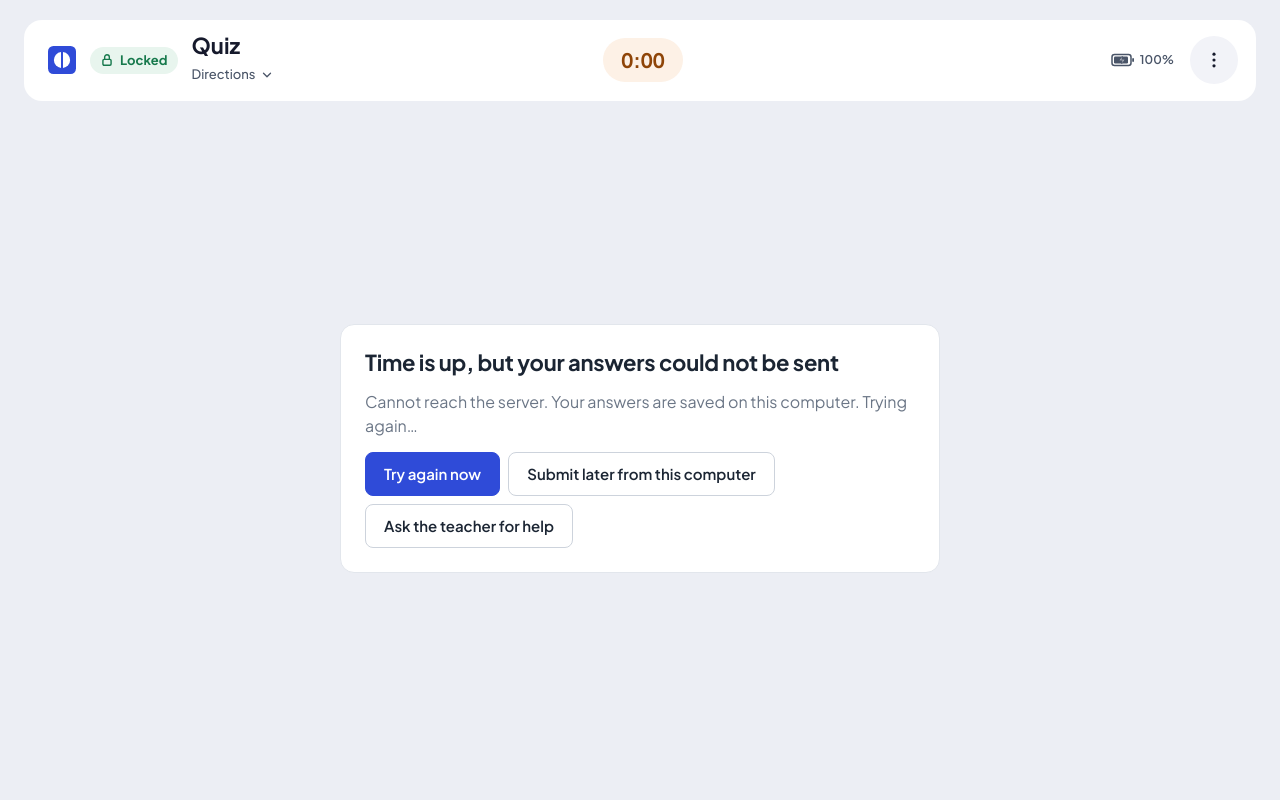
exam page S3 / S5 › time up while offline: three choices; submit later seals the exact answers
Expected: the element with test id "time-up-offline" is shown, x1=340 y1=324 x2=940 y2=573
Expected: the button "Try again now" is shown, x1=365 y1=452 x2=500 y2=496
Click the button "Submit later from this computer" at (642, 474), box x1=508 y1=452 x2=775 y2=496
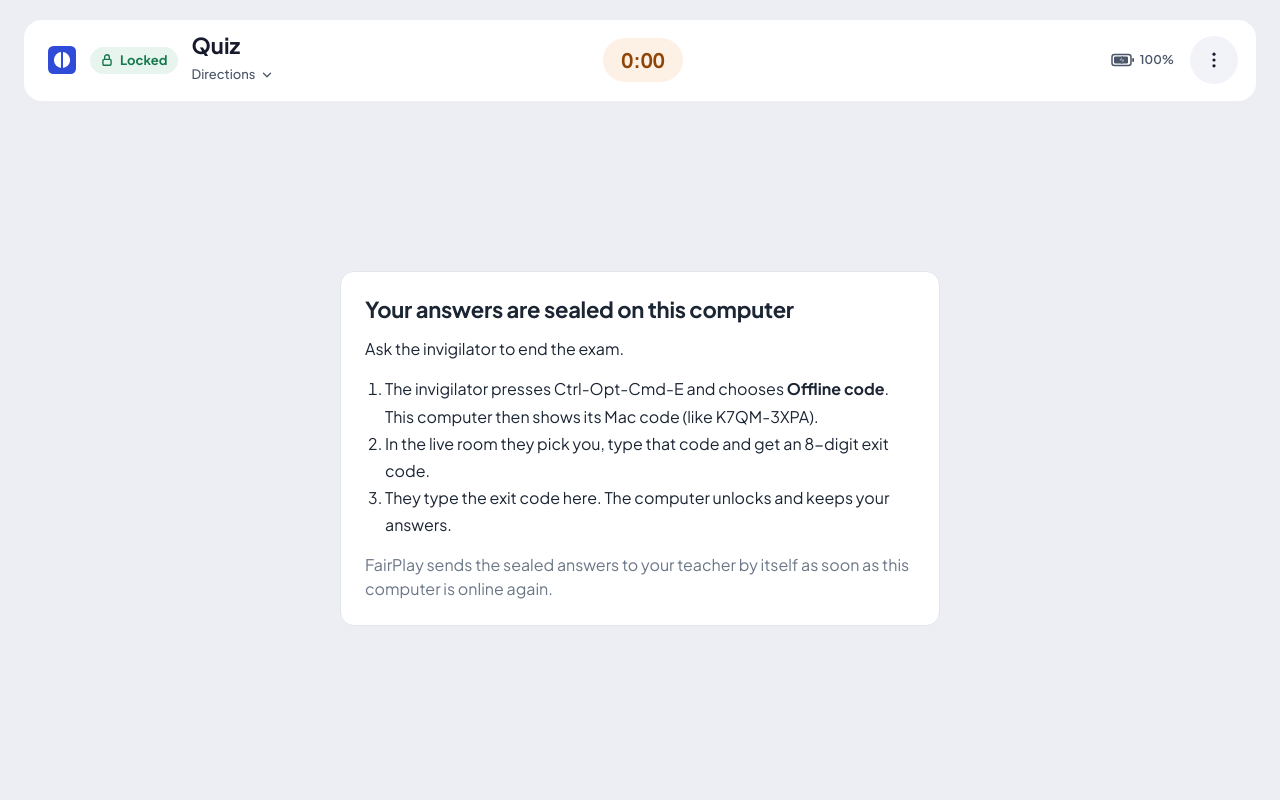
Now the element with test id "time-up-sealed" is shown, box x1=340 y1=271 x2=940 y2=626
